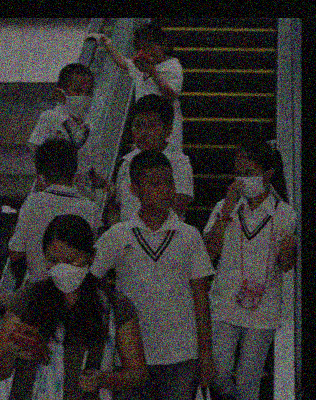with_mask: (42, 251, 88, 294), (62, 81, 94, 116), (232, 166, 265, 198)
without_mask: (142, 173, 176, 211), (129, 117, 164, 152), (135, 42, 165, 63)
